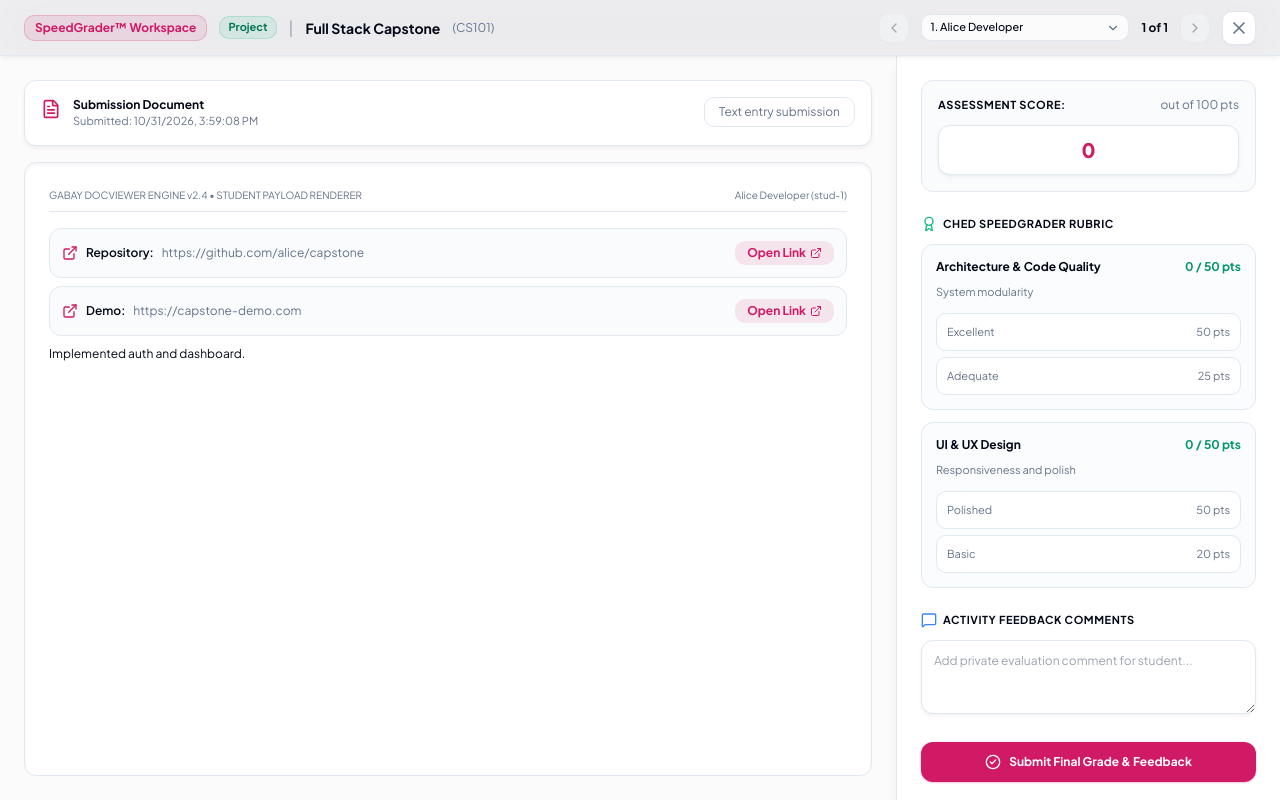
AssessmentsGrading integration tests › SpeedGraderModal calculates score from rubric rating selection
Click rubric rating
Click the text "Excellent" at (971, 332), box [947, 324, 995, 340]
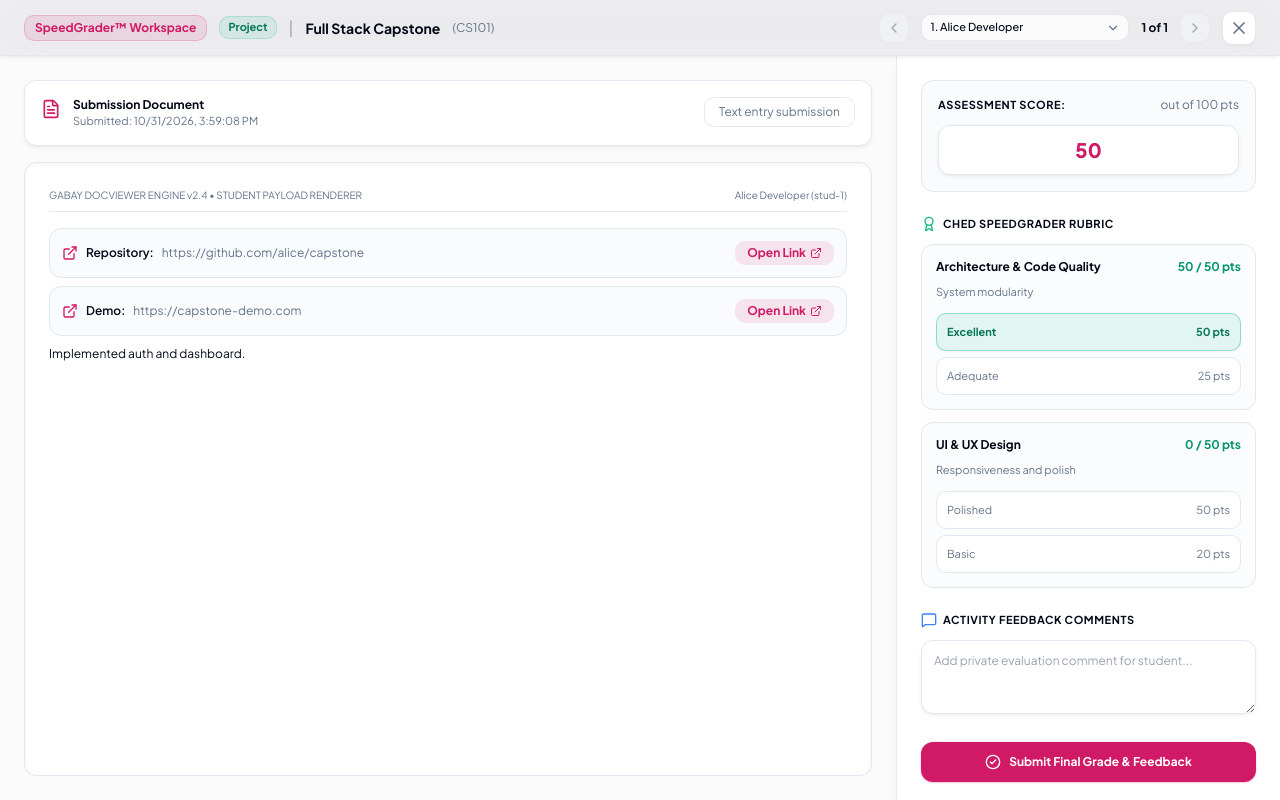
Click the text "Polished" at (970, 510), box [947, 502, 992, 518]
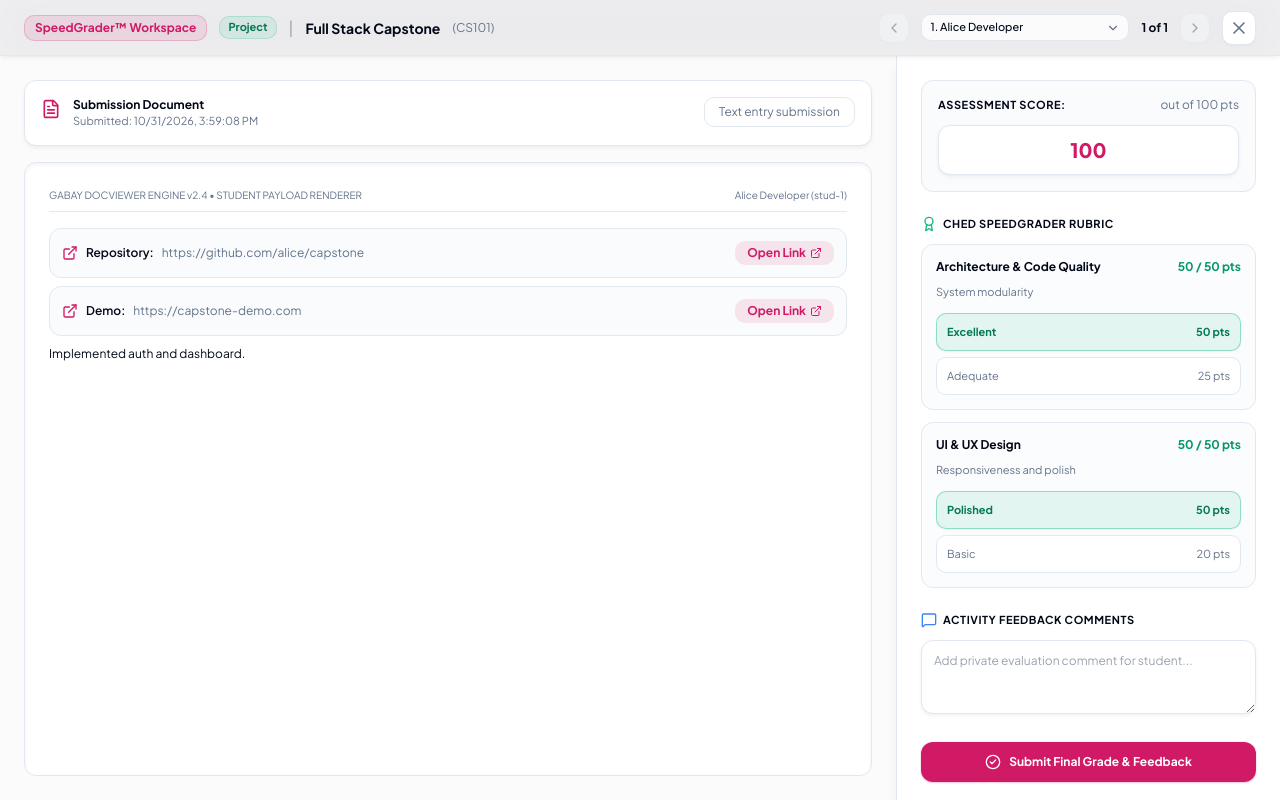
Result: the number field holds "100" at [938, 125, 1239, 175]
